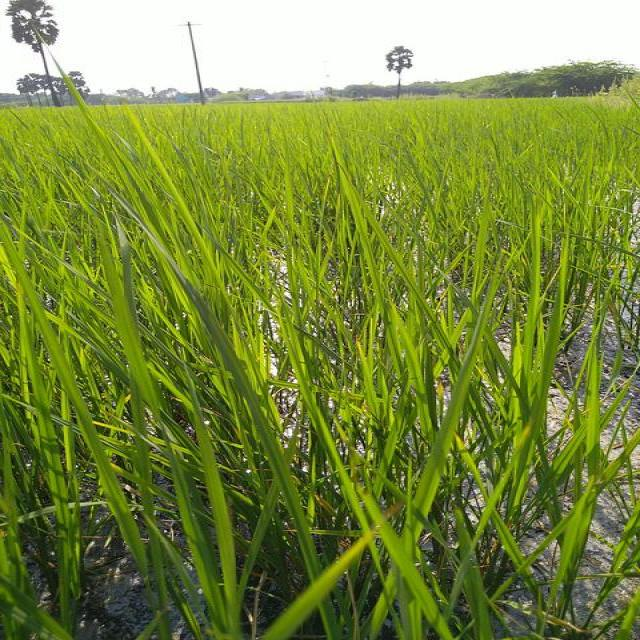Rice: (336, 177, 462, 454), (162, 207, 277, 413), (508, 230, 574, 520), (272, 452, 373, 640), (2, 224, 99, 412), (373, 452, 454, 638), (183, 412, 243, 632), (279, 162, 335, 392), (97, 210, 162, 408), (82, 410, 154, 582), (31, 413, 83, 638), (279, 392, 335, 454), (250, 409, 276, 451)
